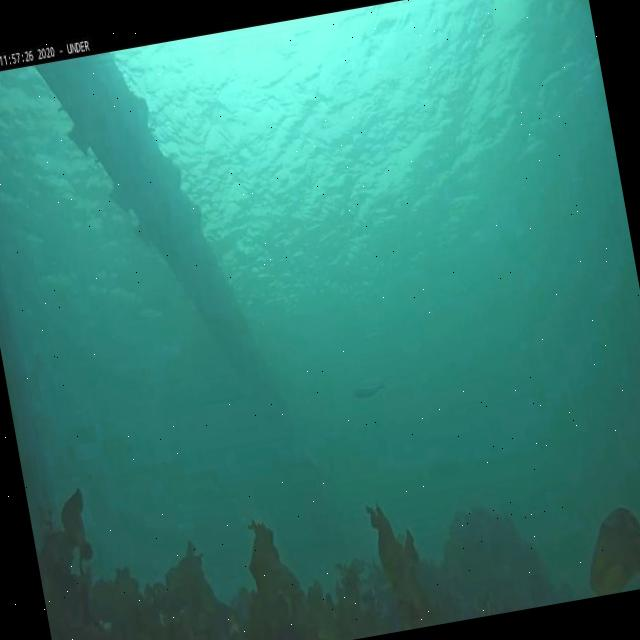fish: (352, 378, 387, 402)
